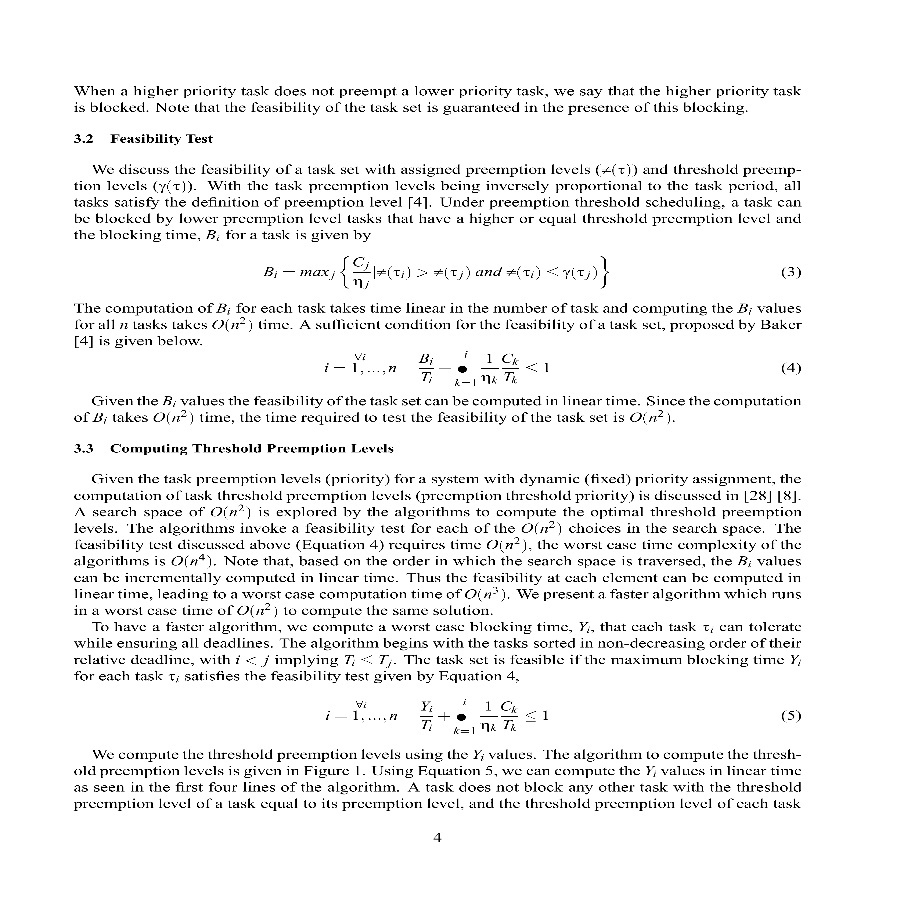eq: (261, 253, 622, 294), (322, 695, 556, 738), (318, 348, 553, 388)
